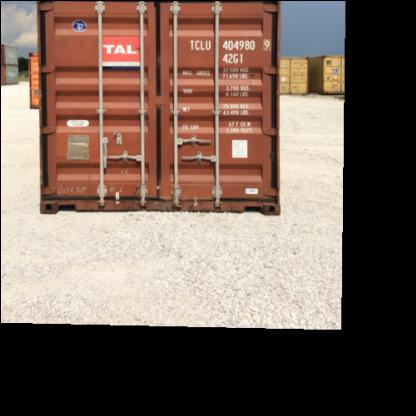Damage: (140, 170, 173, 204)
